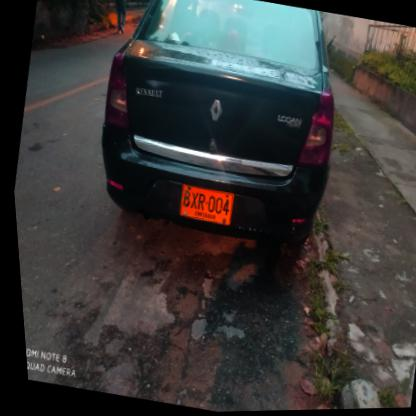placa: (169, 181, 234, 229)
